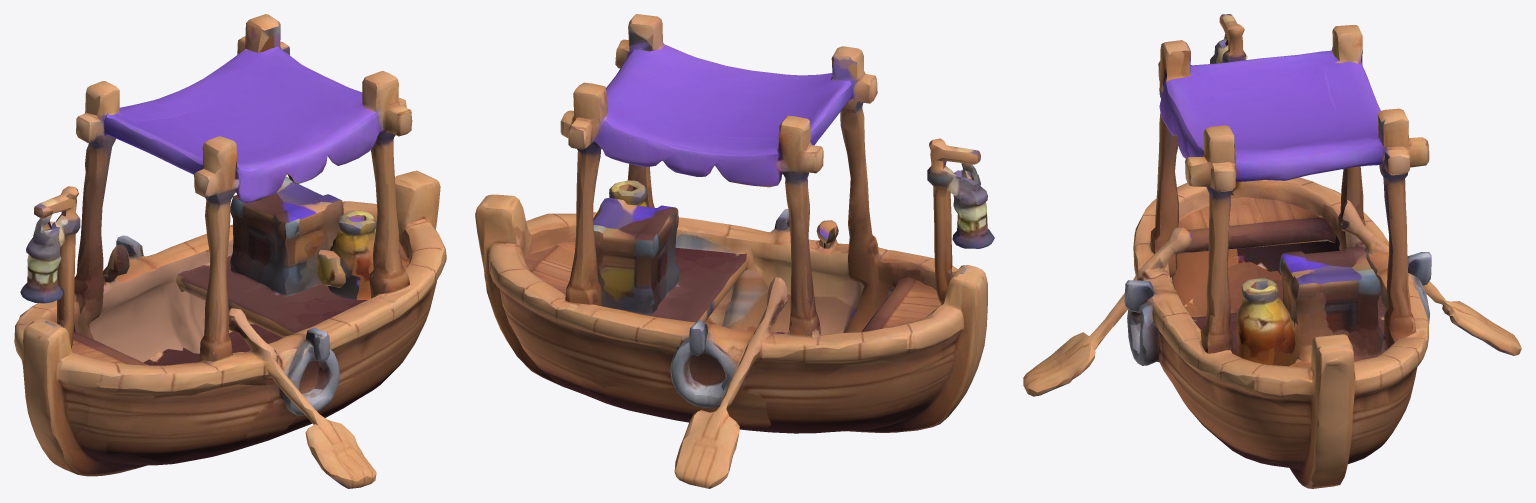
The model's file is barge.glb.
3 renders of one model, left to right at view 1: azimuth 30°, elevation 25°; view 2: azimuth 150°, elevation 25°; view 3: azimuth 270°, elevation 25°, orthographic.
Parts seen in each view (by area): view 1: barge_s15; view 2: barge_s15; view 3: barge_s15.
Boxes of the visible parts, x1=… form: barge_s15: x1=14, y1=14, x2=446, y2=488; barge_s15: x1=475, y1=14, x2=994, y2=488; barge_s15: x1=1023, y1=14, x2=1521, y2=488.
Size of the model in its own units: 1 by 0.7115 by 0.9196.
1 material, 1 textured.
